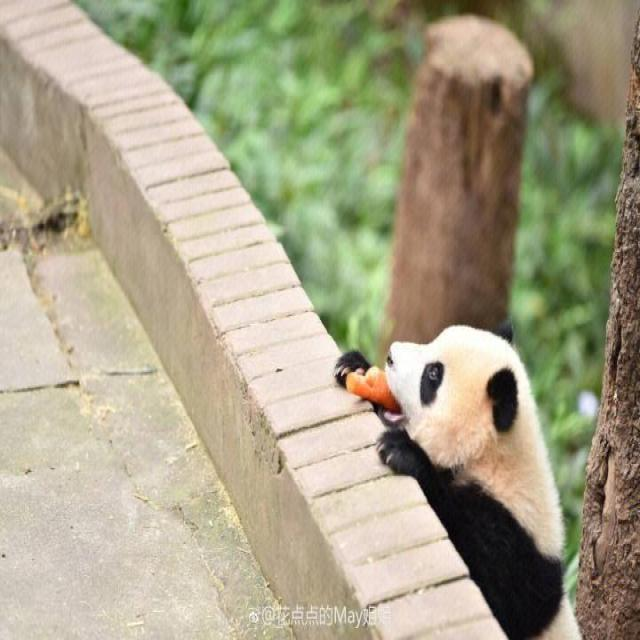panda: (327, 292, 609, 636)
